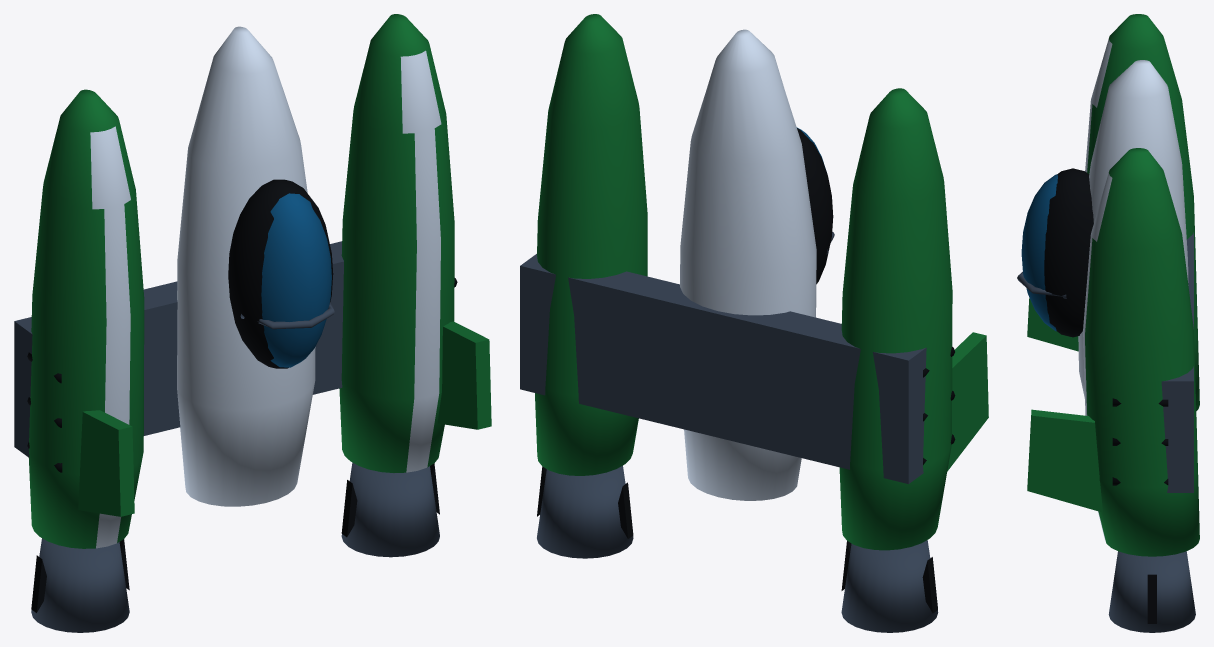
File: nave_doble_motor.obj
3 renders of one model, left to right at view 1: azimuth 30°, elevation 25°; view 2: azimuth 150°, elevation 25°; view 3: azimuth 270°, elevation 25°, orthographic. The views are drawn at different scales.
Parts seen in each view (by area): view 1: nave_doble_motor_Barquilla_1, nave_doble_motor_Cabina_central, nave_doble_motor_Barquilla_-1, nave_doble_motor_Travesano, nave_doble_motor_Cristal_cabina, nave_doble_motor_Motor_-1_tobera, nave_doble_motor_Motor_1_tobera, nave_doble_motor_Marco_cabina, nave_doble_motor_Aleta_-1, nave_doble_motor_Aleta_1; view 2: nave_doble_motor_Travesano, nave_doble_motor_Barquilla_-1, nave_doble_motor_Cabina_central, nave_doble_motor_Barquilla_1, nave_doble_motor_Motor_-1_tobera, nave_doble_motor_Motor_1_tobera, nave_doble_motor_Aleta_-1, nave_doble_motor_Marco_cabina; view 3: nave_doble_motor_Barquilla_1, nave_doble_motor_Cabina_central, nave_doble_motor_Marco_cabina, nave_doble_motor_Barquilla_-1, nave_doble_motor_Aleta_1, nave_doble_motor_Motor_1_tobera, nave_doble_motor_Travesano, nave_doble_motor_Cristal_cabina, nave_doble_motor_Aleta_-1, nave_doble_motor_Motor_1_aleta_1, nave_doble_motor_Arco_cabina.
Boxes of the visible parts, box(x1,y1,x2,y2) form: nave_doble_motor_Barquilla_1: box(339, 14, 454, 472); nave_doble_motor_Cabina_central: box(177, 26, 315, 506); nave_doble_motor_Barquilla_-1: box(28, 89, 144, 548); nave_doble_motor_Travesano: box(14, 241, 343, 457); nave_doble_motor_Cristal_cabina: box(261, 193, 331, 367); nave_doble_motor_Motor_-1_tobera: box(31, 538, 129, 632); nave_doble_motor_Motor_1_tobera: box(341, 462, 439, 557); nave_doble_motor_Marco_cabina: box(228, 179, 333, 368); nave_doble_motor_Aleta_-1: box(78, 410, 134, 516); nave_doble_motor_Aleta_1: box(437, 321, 491, 429); nave_doble_motor_Travesano: box(520, 254, 926, 483); nave_doble_motor_Barquilla_-1: box(839, 88, 952, 550); nave_doble_motor_Cabina_central: box(680, 29, 816, 500); nave_doble_motor_Barquilla_1: box(535, 14, 647, 475); nave_doble_motor_Motor_-1_tobera: box(841, 540, 938, 632); nave_doble_motor_Motor_1_tobera: box(537, 465, 633, 558); nave_doble_motor_Aleta_-1: box(947, 332, 988, 471); nave_doble_motor_Marco_cabina: box(797, 128, 833, 284); nave_doble_motor_Barquilla_1: box(1083, 148, 1199, 556); nave_doble_motor_Cabina_central: box(1078, 60, 1188, 398); nave_doble_motor_Marco_cabina: box(1044, 168, 1093, 337); nave_doble_motor_Barquilla_-1: box(1085, 14, 1199, 410); nave_doble_motor_Aleta_1: box(1027, 409, 1102, 512); nave_doble_motor_Motor_1_tobera: box(1108, 551, 1195, 632); nave_doble_motor_Travesano: box(1161, 232, 1193, 492); nave_doble_motor_Cristal_cabina: box(1021, 174, 1057, 331); nave_doble_motor_Aleta_-1: box(1027, 298, 1078, 351); nave_doble_motor_Motor_1_aleta_1: box(1147, 574, 1156, 623); nave_doble_motor_Arco_cabina: box(1017, 271, 1066, 298).
Bounding box in the file's own units: 1.05 × 1.35 × 0.4613.
